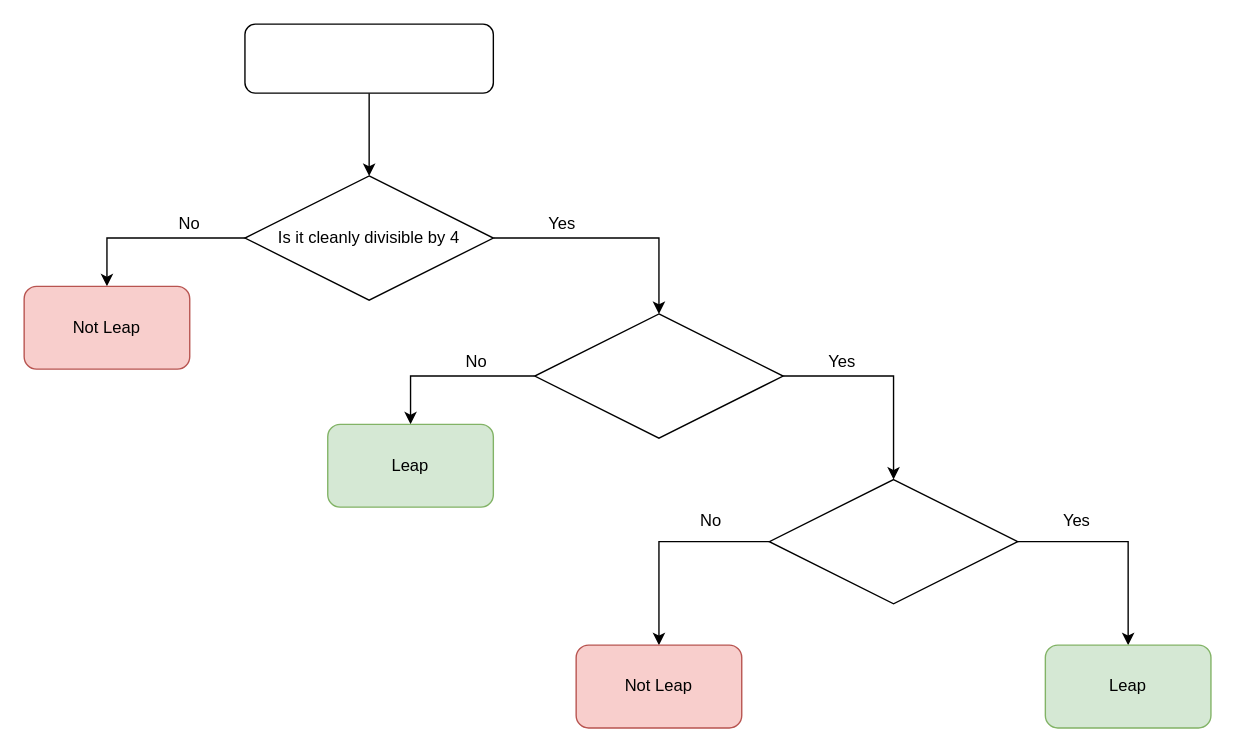
Image size: 1235x752. Some labels were removed from this diagram. The centre of each missing label's shape, as x and y in pixels:
"Is it cleanly divisible by 100" belongs at [658,375].
"Is it cleanly divisible by 400" belongs at [893,541].
"Leap Year" belongs at [368,58].
